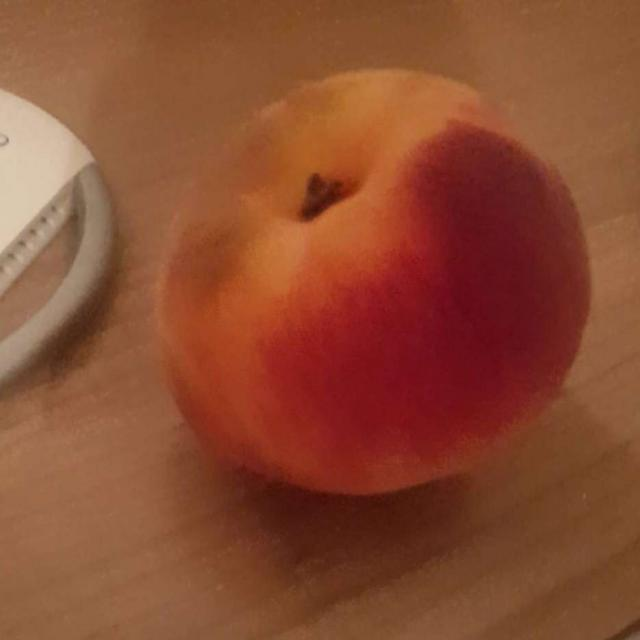peach: (158, 86, 584, 489)
